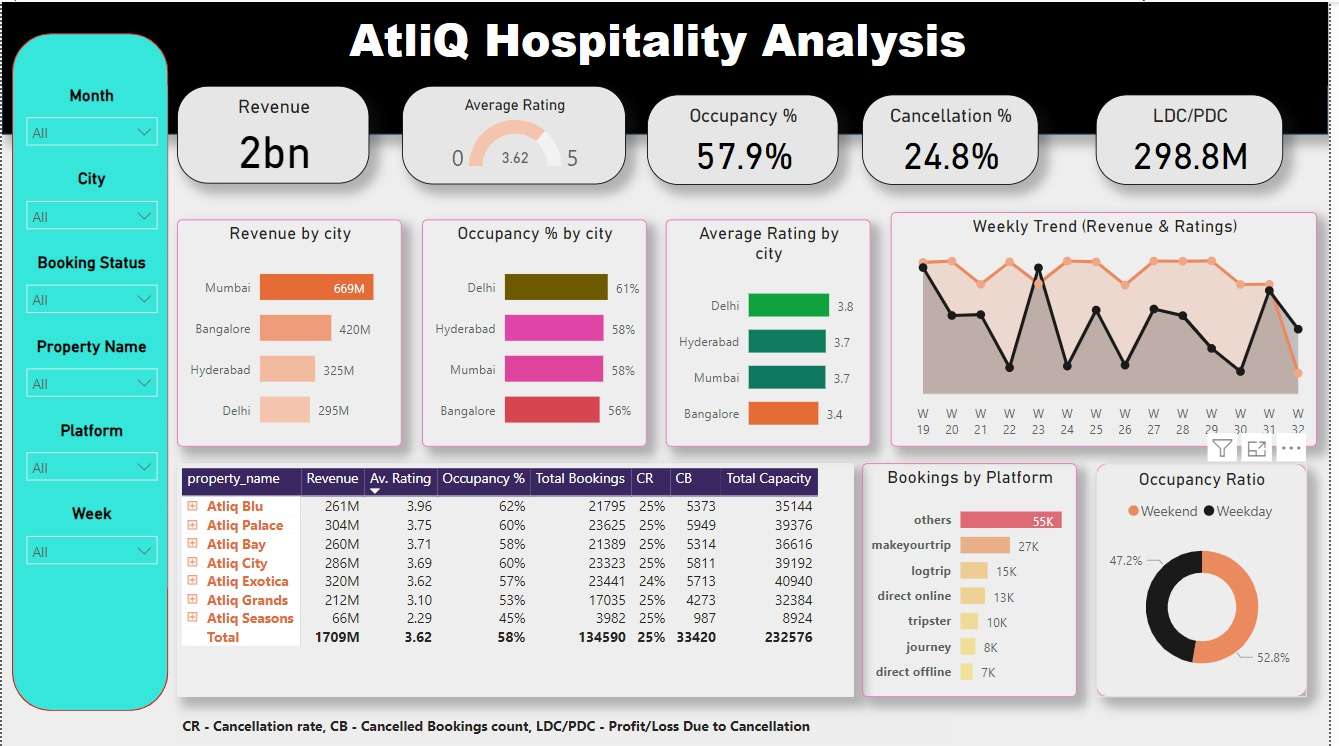

This screenshot's page, from the dashboard's own definition file:
{"tool":"powerbi","page":{"name":"Overall","canvas":[1280,720],"ordinal":0},"visuals":[{"type":"shape","box":[0,0,1279.6,127.8],"z":0},{"type":"textbox","box":[0,0,1279.6,80.8],"z":1000},{"type":"shape","box":[9.6,30.2,150.8,654],"z":2000},{"type":"slicer","title":"Month ","fields":{"Values":["dim_date.mmm yy"]},"box":[13.7,80.9,146.7,80.9],"z":3000},{"type":"slicer","title":"City","fields":{"Values":["dim_hotels.city"]},"box":[13.7,161.8,146.7,80.9],"z":4000},{"type":"slicer","title":"Booking Status","fields":{"Values":["fact_bookings.booking_status"]},"box":[13.7,242.7,146.7,80.9],"z":5000},{"type":"slicer","title":"Property Name","fields":{"Values":["dim_hotels.property_name"]},"box":[13.7,323.6,146.7,80.9],"z":6000},{"type":"slicer","title":"Platform","fields":{"Values":["fact_bookings.booking_platform"]},"box":[13.7,404.5,146.7,80.9],"z":7000},{"type":"slicer","title":"Week","fields":{"Values":["dim_date.week no"]},"box":[13.7,485.4,146.7,80.9],"z":8000},{"type":"pivotTable","fields":{"Rows":["dim_hotels.property_name","dim_hotels.city"],"Values":["Key Measures.Revenue","Key Measures.Average Rating","Key Measures.Occupancy %","Key Measures.Total Bookings","Key Measures.Cancellation %","Key Measures.Total cancelled bookings","Key Measures.Total Capacity"]},"box":[168.8,445,653.7,225.5],"z":9000},{"type":"barChart","fields":{"Category":["dim_hotels.city"],"Y":["Key Measures.Occupancy %"]},"box":[405.2,209.8,217.1,219.5],"z":10000},{"type":"barChart","fields":{"Category":["dim_hotels.city"],"Y":["Key Measures.Average Rating"]},"box":[640.4,209.8,197.8,219.5],"z":11000},{"type":"barChart","fields":{"Y":["Key Measures.Revenue"],"Category":["dim_hotels.city"]},"box":[168.8,209.8,217.1,219.5],"z":12000},{"type":"areaChart","title":"Weekly Trend (Revenue & Ratings)","fields":{"Category":["dim_date.week no"],"Y":["Key Measures.Revenue"],"Y2":["Key Measures.avgRating"]},"box":[857.5,202.6,411.3,226.7],"z":13000},{"type":"donutChart","title":"Occupancy Ratio","fields":{"Category":["dim_date.day type"],"Y":["Key Measures.Occupancy %"]},"box":[1055.3,445,203.8,225.5],"z":14000},{"type":"barChart","title":"Bookings by Platform","fields":{"Y":["Key Measures.Total Bookings"],"Category":["fact_bookings.booking_platform"]},"box":[829.7,445,207.4,225.5],"z":15000},{"type":"textbox","box":[168.8,683.8,747.7,33.8],"z":16000},{"type":"card","title":"Occupancy %","fields":{"Values":["Key Measures.Occupancy %"]},"box":[622.3,89.2,184.5,86.8],"z":17000},{"type":"card","title":"Cancellation %","fields":{"Values":["Key Measures.Cancellation %"]},"box":[829.7,89.2,170.1,86.8],"z":18000},{"type":"card","title":"LDC/PDC","fields":{"Values":["Key Measures.LDC"]},"box":[1055.3,89.2,180.9,86.8],"z":19000},{"type":"card","title":"Revenue","fields":{"Values":["Key Measures.Revenue"]},"box":[168.8,80.8,185.7,94.1],"z":20000},{"type":"gauge","title":"Average Rating","fields":{"Y":["Key Measures.Average Rating"],"MinValue":["Key Measures.Min Rating"],"MaxValue":["Key Measures.Max Rating"]},"box":[385.9,80.8,215.9,95.3],"z":21000}]}

Visuals, with their boxes in screenshot pixels (x1, y1, x2, y2), scaled from the page's 1280x720 canvas onto the 1339x746 screenshot:
shape: l=0, t=0, r=1338, b=132
textbox: l=0, t=0, r=1338, b=84
shape: l=10, t=31, r=168, b=709
"Month " slicer: l=14, t=84, r=168, b=168
"City" slicer: l=14, t=168, r=168, b=251
"Booking Status" slicer: l=14, t=251, r=168, b=335
"Property Name" slicer: l=14, t=335, r=168, b=419
"Platform" slicer: l=14, t=419, r=168, b=503
"Week" slicer: l=14, t=503, r=168, b=587
pivotTable - dim_hotels.property_name x dim_hotels.city: l=177, t=461, r=860, b=695
barChart - dim_hotels.city x Key Measures.Occupancy %: l=424, t=217, r=651, b=445
barChart - dim_hotels.city x Key Measures.Average Rating: l=670, t=217, r=877, b=445
barChart - Key Measures.Revenue x dim_hotels.city: l=177, t=217, r=404, b=445
"Weekly Trend (Revenue & Ratings)" areaChart: l=897, t=210, r=1327, b=445
"Occupancy Ratio" donutChart: l=1104, t=461, r=1317, b=695
"Bookings by Platform" barChart: l=868, t=461, r=1085, b=695
textbox: l=177, t=708, r=959, b=744
"Occupancy %" card: l=651, t=92, r=844, b=182
"Cancellation %" card: l=868, t=92, r=1046, b=182
"LDC/PDC" card: l=1104, t=92, r=1293, b=182
"Revenue" card: l=177, t=84, r=371, b=181
"Average Rating" gauge: l=404, t=84, r=630, b=182
